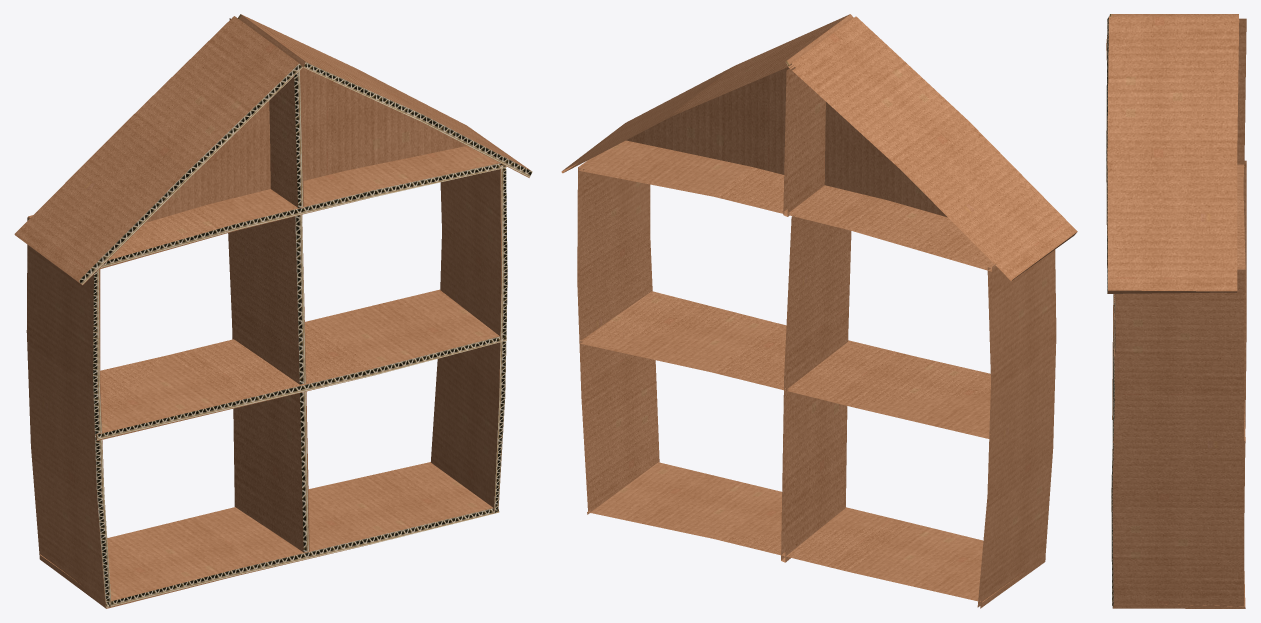
The model's file is HouseCardBoard.FBX.
The picture shows the model from 3 angles, left to right: view 1: azimuth 30°, elevation 25°; view 2: azimuth 150°, elevation 25°; view 3: azimuth 270°, elevation 25°; orthographic projection.
Visible parts, largest first — view 1: HouseCardBoard; view 2: HouseCardBoard; view 3: HouseCardBoard.
Part boxes in pixels (x1=…): HouseCardBoard: x1=14, y1=14, x2=532, y2=608; HouseCardBoard: x1=561, y1=14, x2=1077, y2=608; HouseCardBoard: x1=1106, y1=14, x2=1246, y2=608.
Size of the model in its own units: 90.7 by 95.52 by 24.42.
